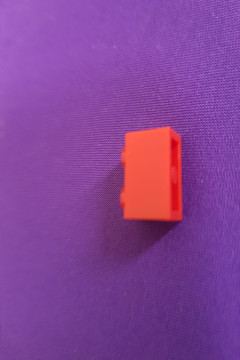1x2 red: (119, 125, 186, 224)
